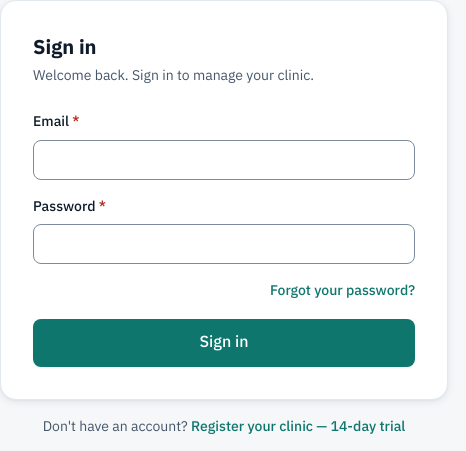
Scenario: Sign-in: the MFA challenge › works the same in English (LTR)
The width and height of the screenshot is (466, 451).
Type "root@platform.test" into the field labelled "Email *" at (224, 160), box [33,140,415,180]
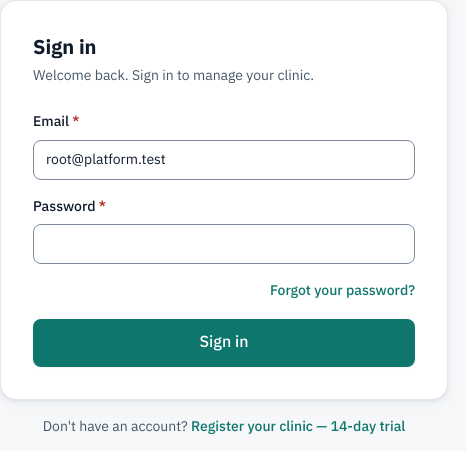
Type "Platform-Admin-Passw0rd!" into the password field labelled "Password *" at (224, 244), box [33,224,415,264]
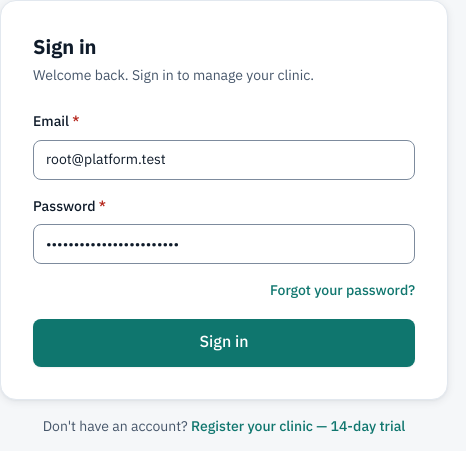
Click the button "Sign in" at (224, 343), box [33,319,415,367]
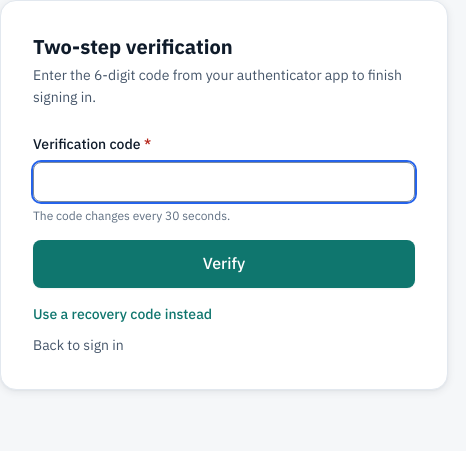
Check: the heading "Two-step verification" is shown, box [33,32,233,62]
